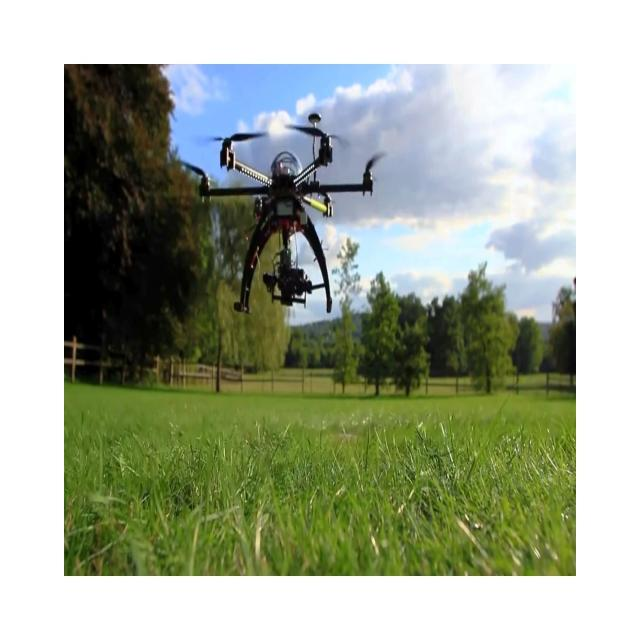drone: (176, 111, 388, 315)
